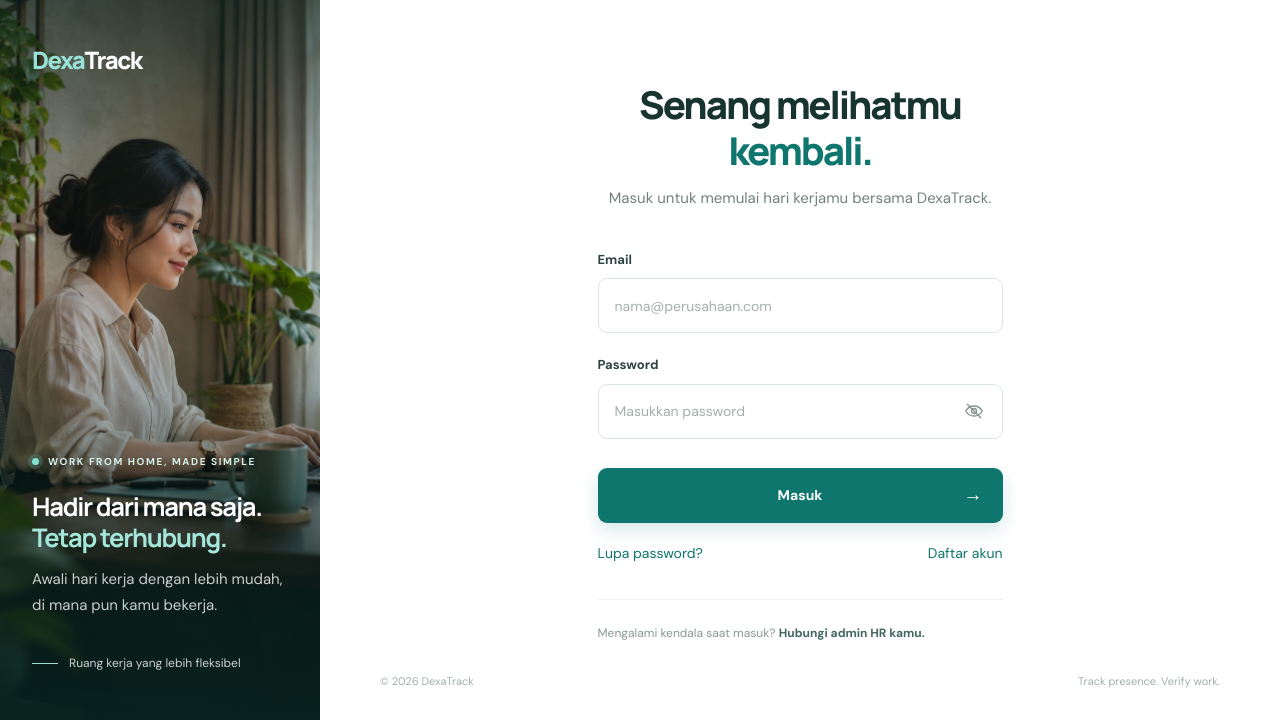
Scenario: authenticated application › shows login errors without admitting a user
Type "hr@example.com" into the field labelled "Email" at [800, 306], box [598,278,1002,333]
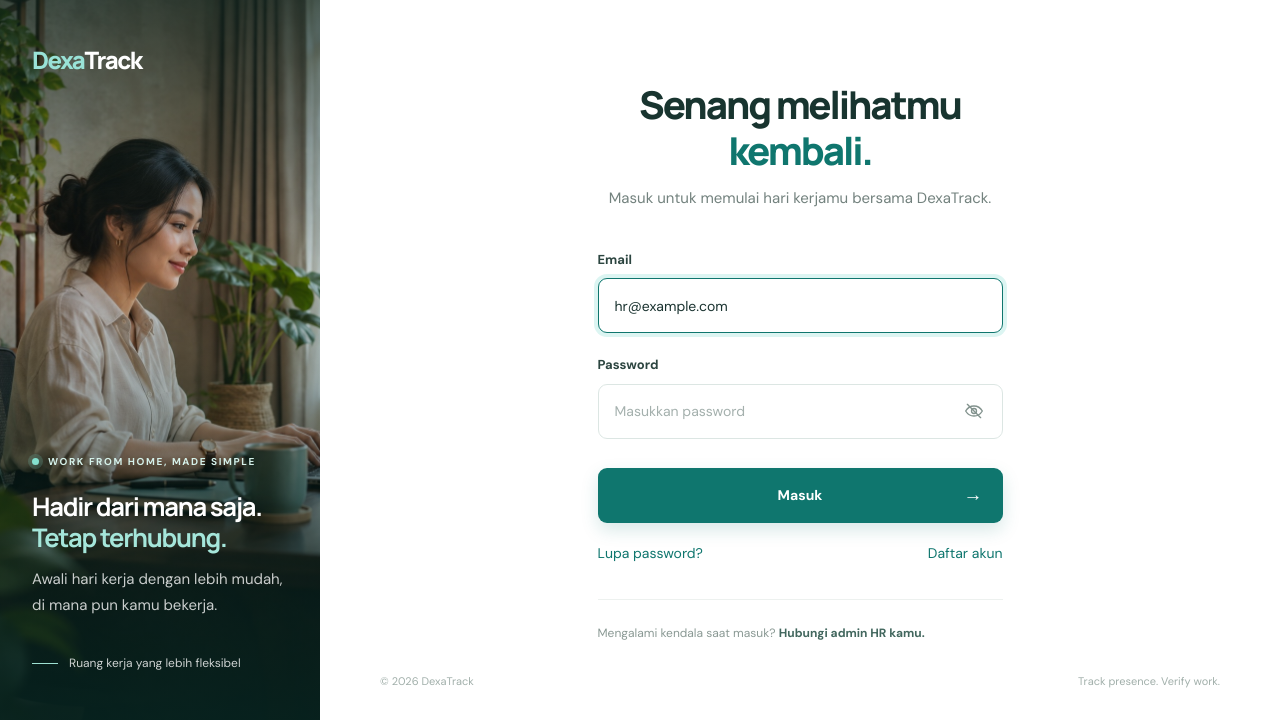
Type "bad" into the password field labelled "Password" at [800, 411], box [598,384,1002,439]
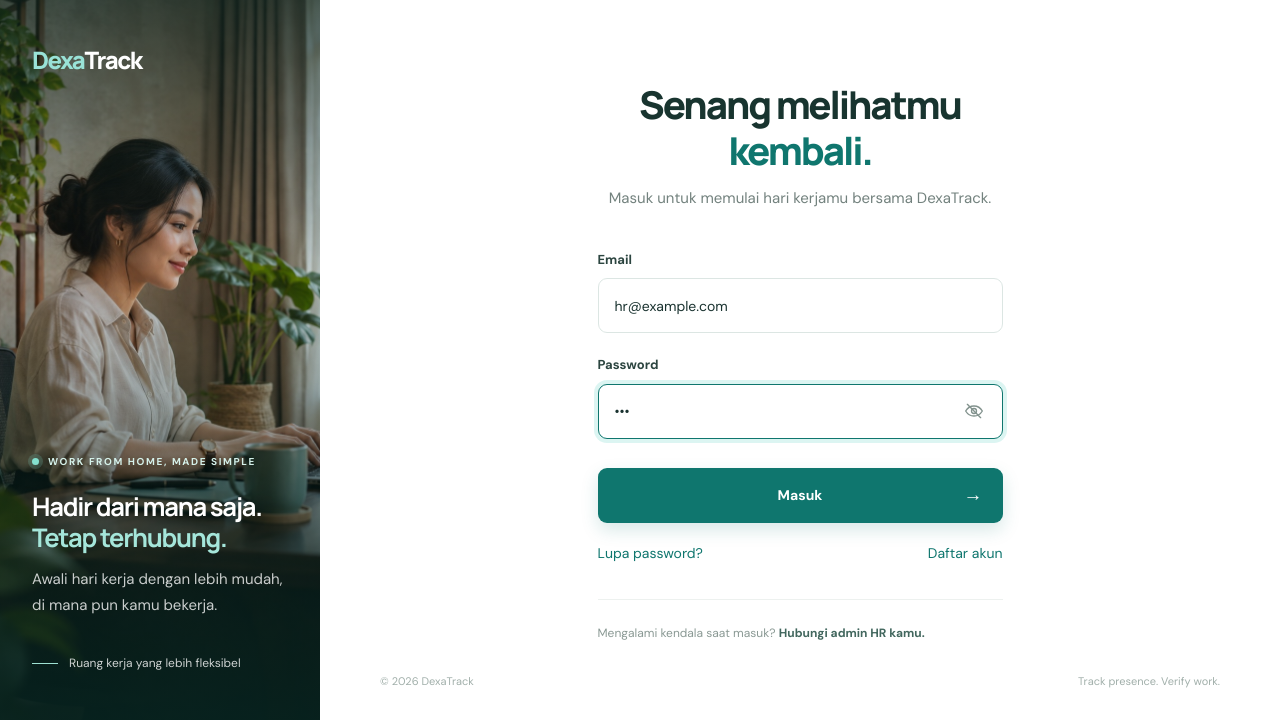
Click the button "Masuk →" at [800, 495], box [598,468,1002,523]
(page scrolled)
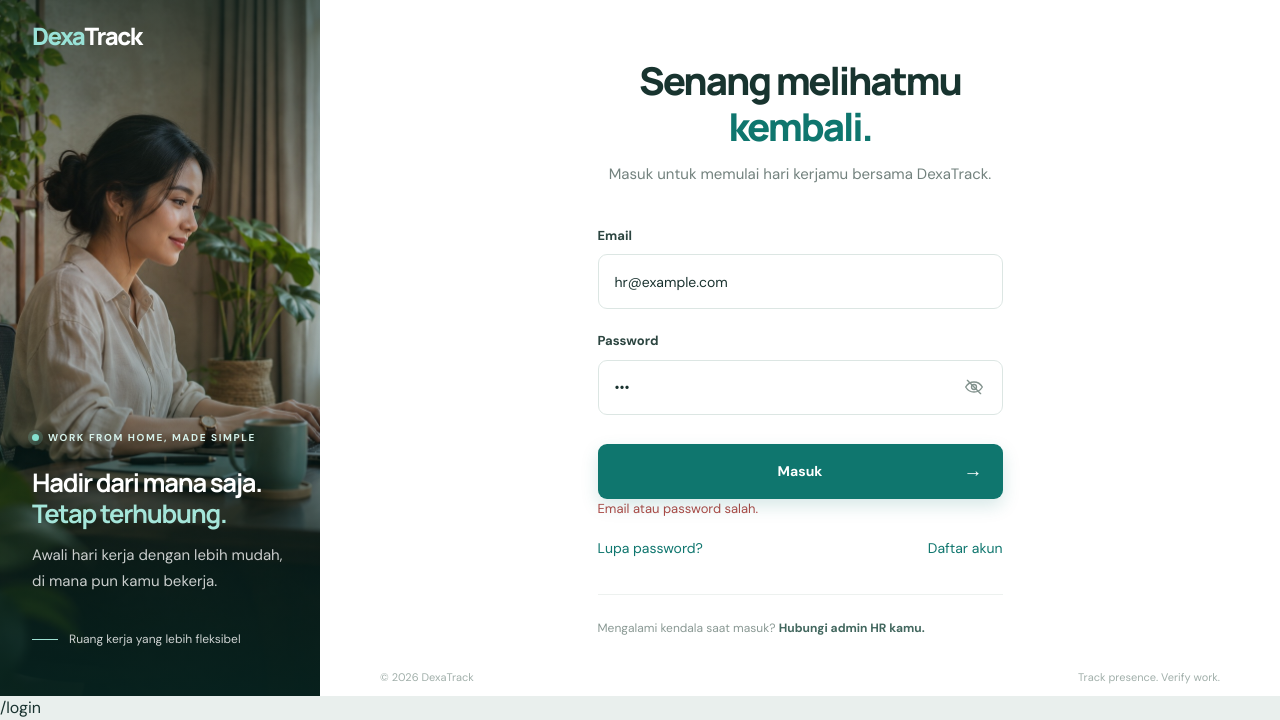
Expected: the text with test id "location" reads "/login", [0,697,41,718]
Now the message reads "Email atau password salah.", box [598,500,758,517]
